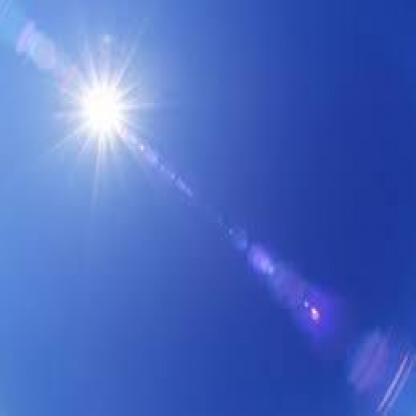other: (44, 27, 149, 193)
